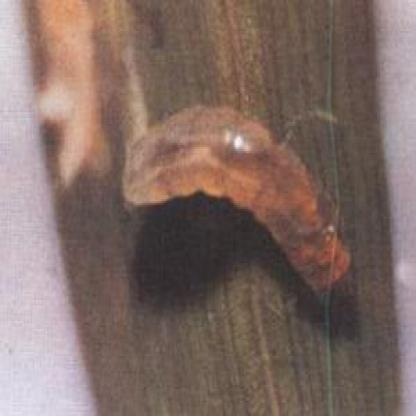whorl-maggot: (123, 98, 359, 310)
